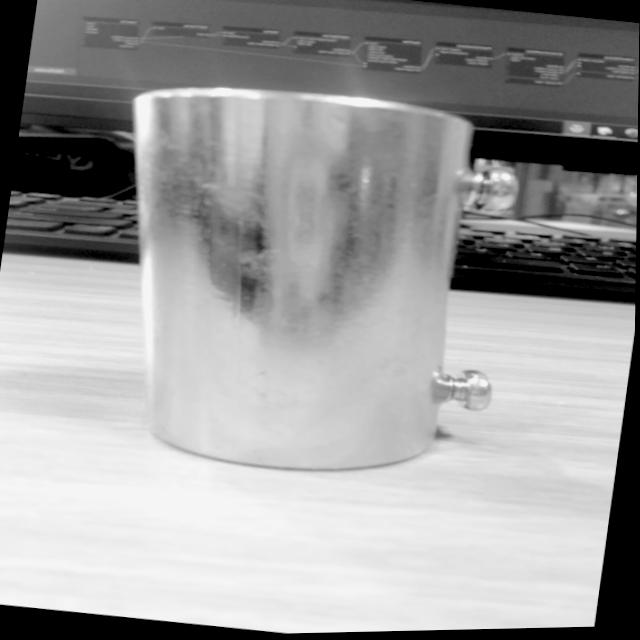Co_Nho: (111, 82, 529, 479)
